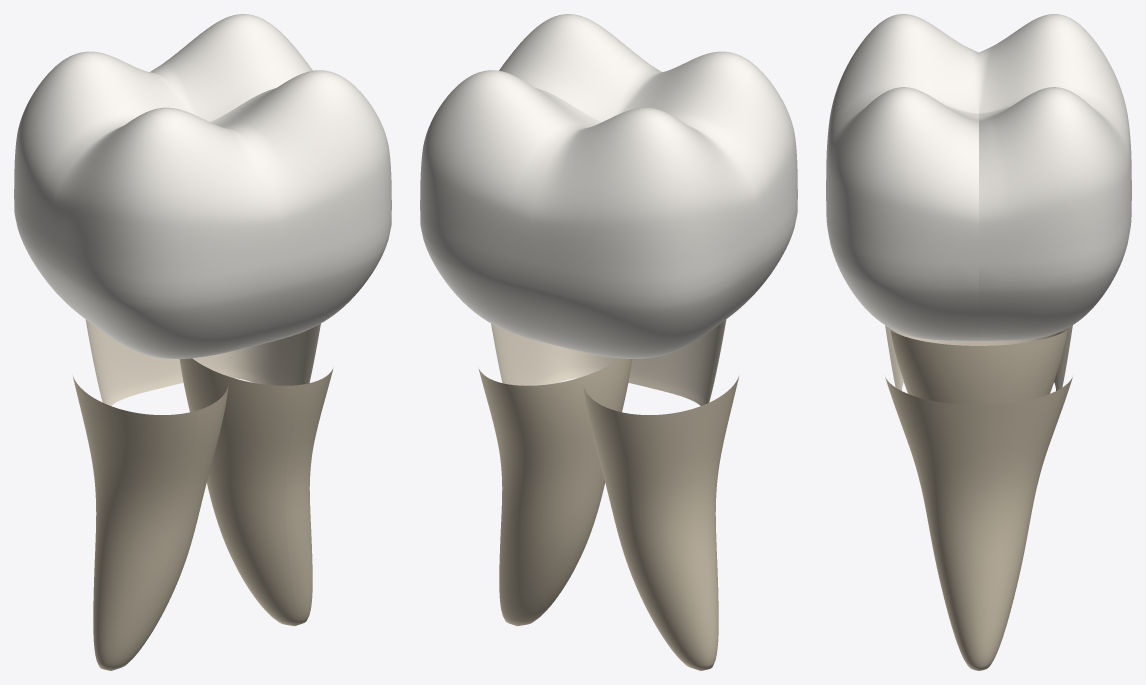
Rendered from dente-molar.glb.
3 renders of one model, left to right at view 1: azimuth 30°, elevation 25°; view 2: azimuth 150°, elevation 25°; view 3: azimuth 270°, elevation 25°, orthographic. The views are drawn at different scales.
Parts seen in each view (by area): view 1: coroa, raiz_mesial, raiz_distal, colo_cervical; view 2: coroa, raiz_mesial, raiz_distal, colo_cervical; view 3: coroa, raiz_distal, raiz_mesial, colo_cervical.
Part boxes in pixels (left/top/right/bottom): coroa: left=14, top=14, right=391, bottom=358; raiz_mesial: left=73, top=376, right=228, bottom=670; raiz_distal: left=179, top=358, right=333, bottom=626; colo_cervical: left=85, top=319, right=320, bottom=405; coroa: left=420, top=14, right=797, bottom=358; raiz_mesial: left=583, top=376, right=738, bottom=670; raiz_distal: left=478, top=358, right=632, bottom=626; colo_cervical: left=491, top=319, right=726, bottom=405; coroa: left=826, top=14, right=1131, bottom=340; raiz_distal: left=885, top=377, right=1072, bottom=670; raiz_mesial: left=890, top=330, right=1067, bottom=405; colo_cervical: left=885, top=325, right=1072, bottom=390.
Bounding box in the file's own units: 0.0124 × 0.0231 × 0.0112.
